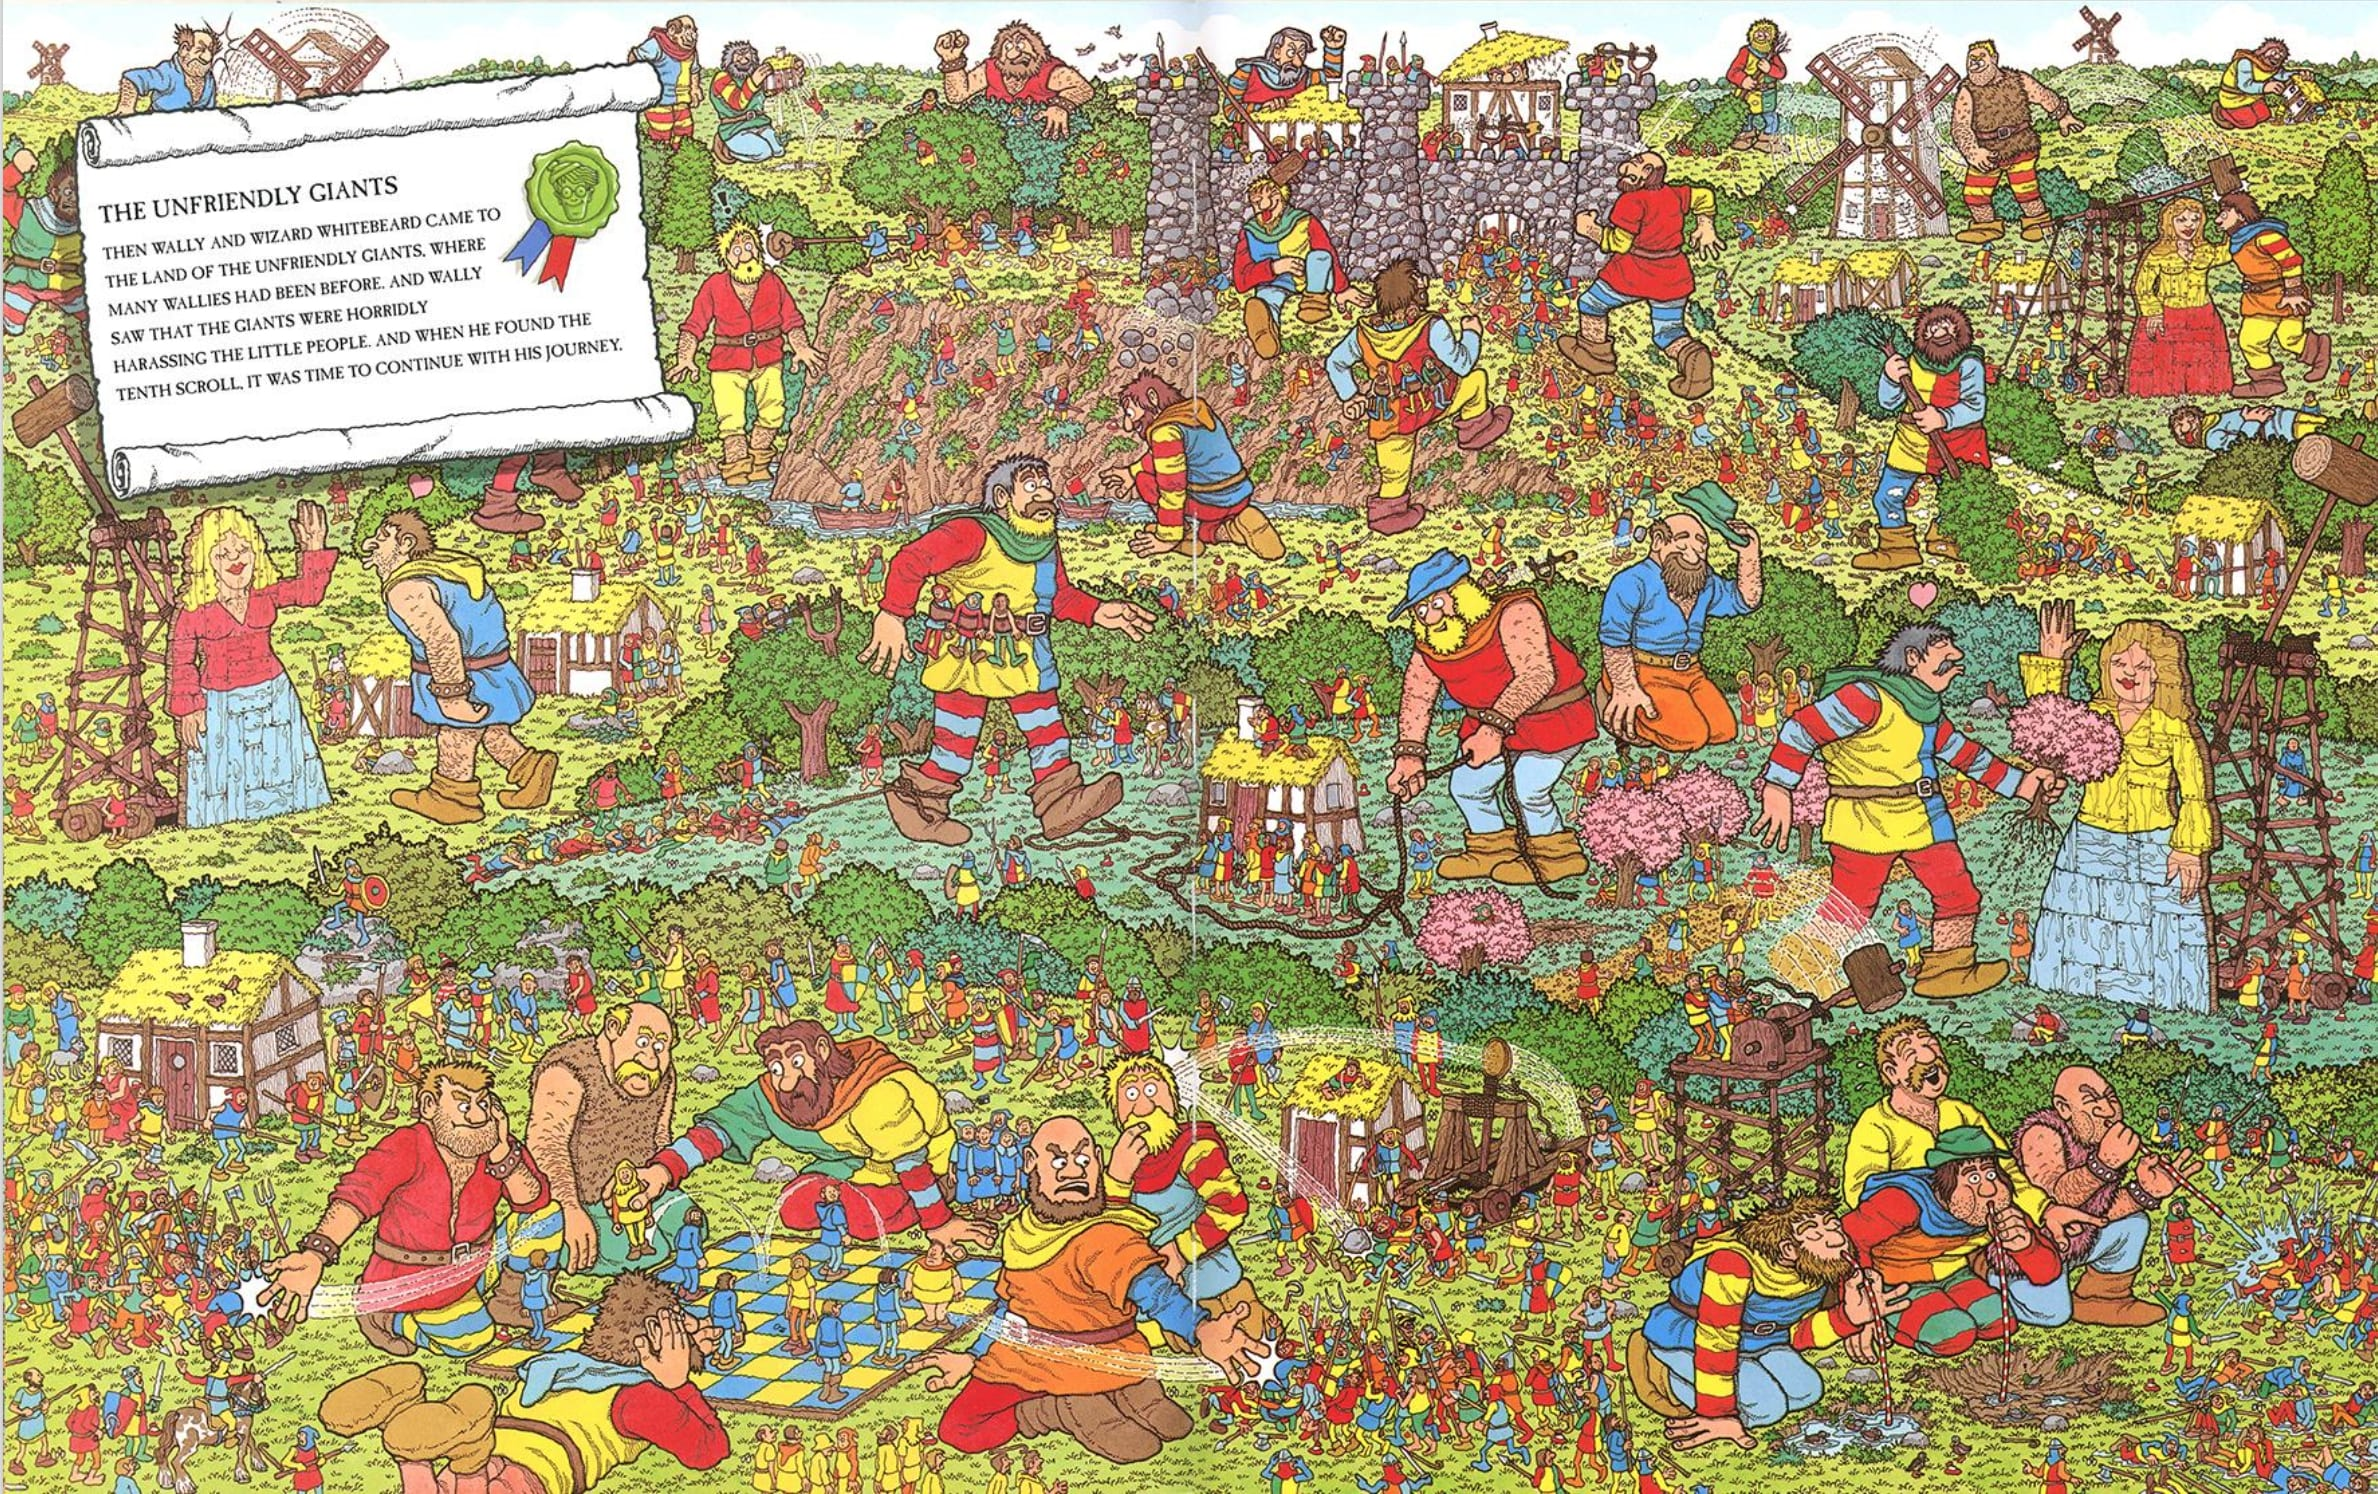Waldo: (434, 950, 461, 1003)
